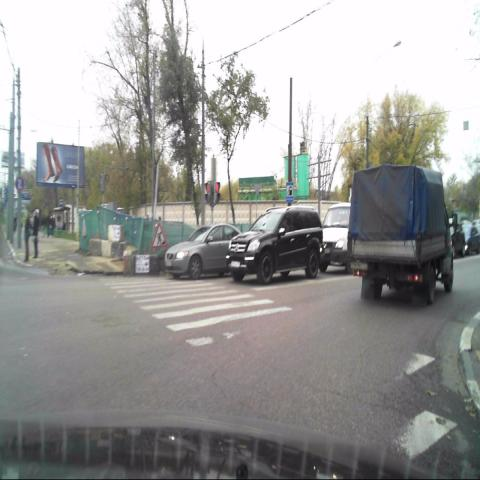1_25: (150, 222, 168, 247)
